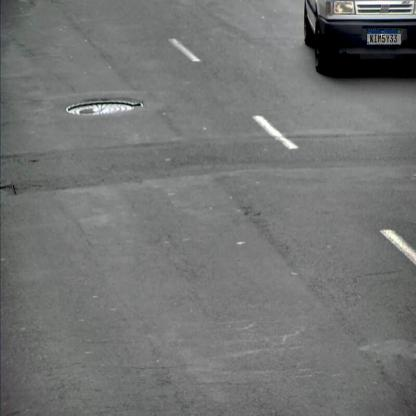PlacaM: (366, 29, 402, 45)
